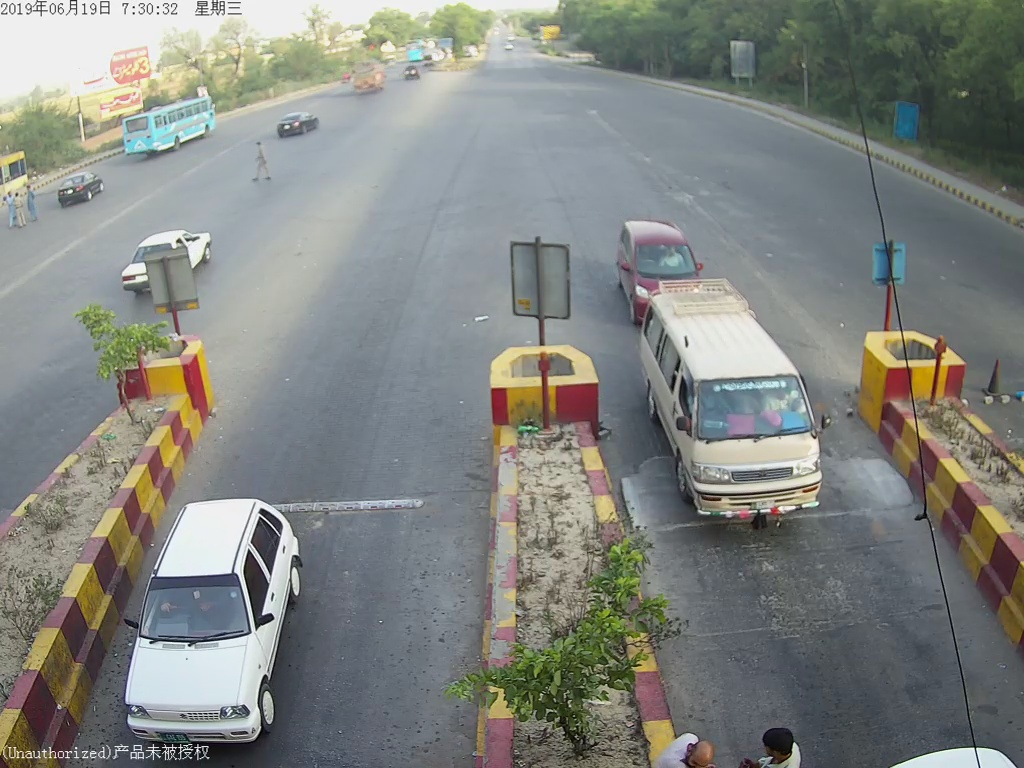Cat-1: (126, 498, 300, 741)
Cat-2: (640, 291, 838, 531)
